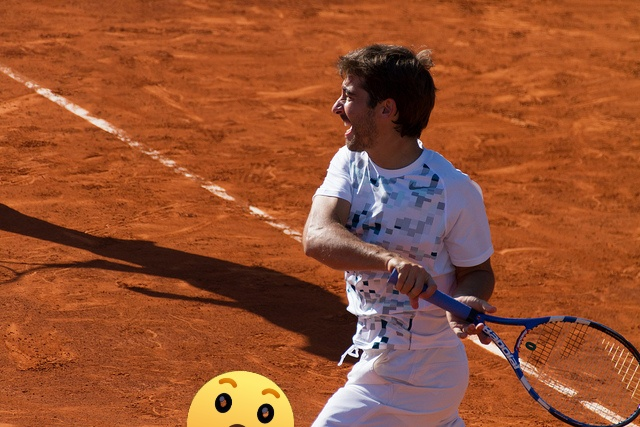wow: (187, 371, 294, 427)
